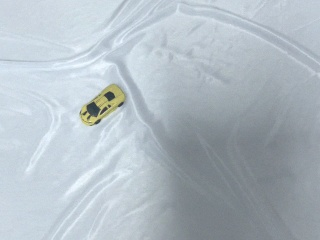toy_car: (80, 84, 125, 127)
